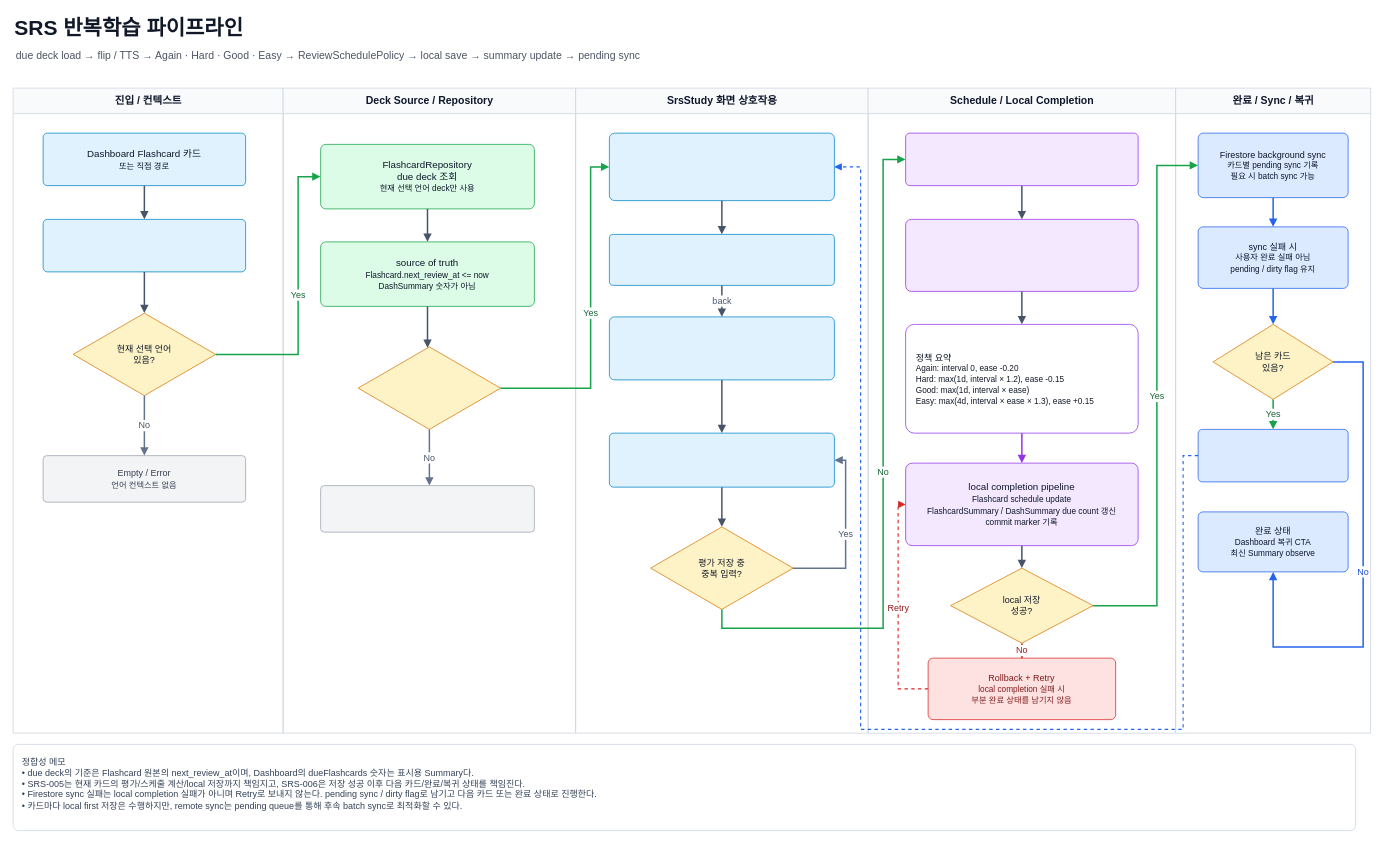
Image size: 1384x844. Some labels were removed from this diagram. Each missing label, with the centre of its shape:
"4단계 평가 선택 Again / Hard / Good / Easy" belongs at [721,459].
"due card 있음?" belongs at [429,387].
"Empty 복습할 카드 없음" belongs at [427,508].
"ReviewDecision 생성 cardId + selected grade" belongs at [1021,159].
"ReviewSchedulePolicy SM-2 기반 단순화 정책 interval / ease_factor / next_review_at 계산" belongs at [1021,255].
"SrsStudyScreen 진입 selectedLearningLanguage 확인" belongs at [144,245].
"다음 카드로 이동 이전 카드 flip 상태 초기화" belongs at [1272,455].
"발음 재생 MVP: Android TextToSpeech 대상: 뒷면 외국어 문장" belongs at [721,348].
"카드 뒤집기 front ↔ back" belongs at [721,259].
"현재 카드 표시 앞면: 모국어 문장 뒷면: 외국어 문장 + 설명" belongs at [721,166].
